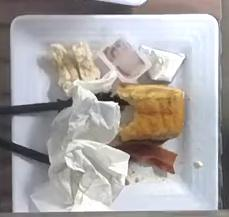bacon: (110, 136, 177, 174)
bread: (116, 84, 182, 139)
